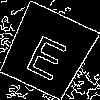E: (22, 26, 75, 81)
